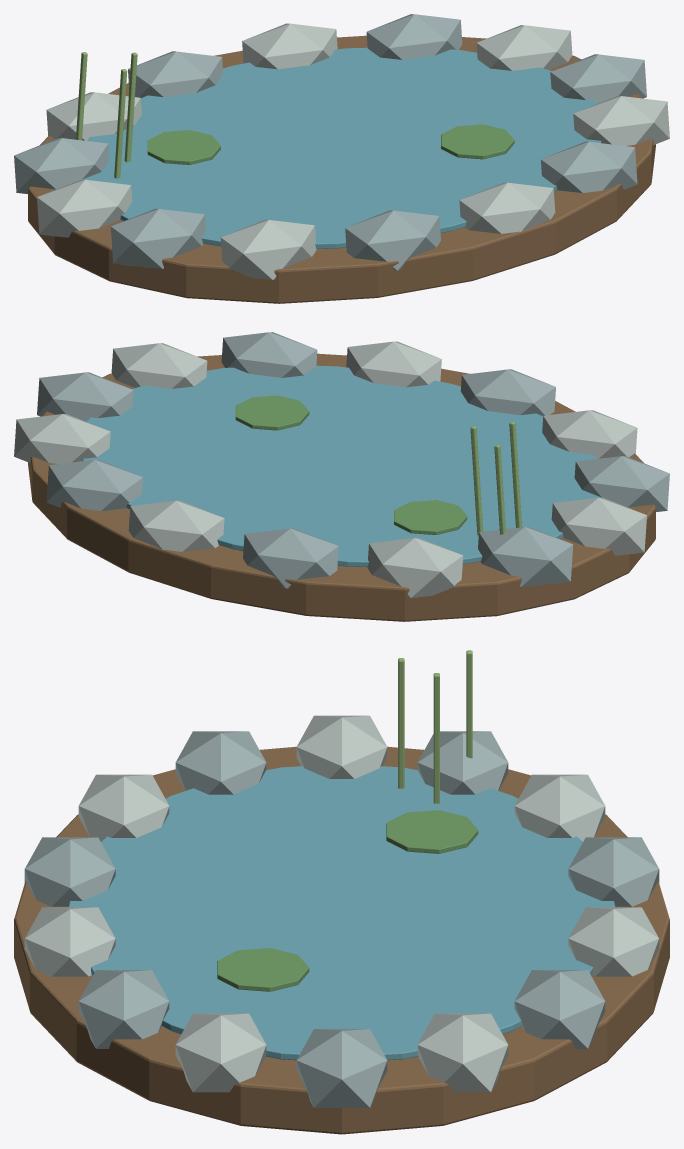
Rendered from S071_scenic_pond.glb.
The picture shows the model from 3 angles, top to bottom: view 1: azimuth 30°, elevation 25°; view 2: azimuth 150°, elevation 25°; view 3: azimuth 270°, elevation 25°; orthographic projection. The views are drawn at different scales.
Visible parts, largest first — view 1: painted_pond_water, pond_scenic_base, foam_pond_rim.008, foam_pond_rim.009, foam_pond_rim.007, foam_pond_rim.010, foam_pond_rim.012, foam_pond_rim.011, foam_pond_rim.013, foam_pond_rim.006, foam_pond_rim, foam_pond_rim.001 (+9 smaller); view 2: painted_pond_water, pond_scenic_base, foam_pond_rim.006, foam_pond_rim.005, foam_pond_rim.007, foam_pond_rim.004, foam_pond_rim.002, foam_pond_rim.003, foam_pond_rim.001, foam_pond_rim.008, foam_pond_rim, foam_pond_rim.013 (+9 smaller); view 3: painted_pond_water, pond_scenic_base, foam_pond_rim, foam_pond_rim.001, foam_pond_rim.013, foam_pond_rim.002, foam_pond_rim.012, foam_pond_rim.003, foam_pond_rim.011, foam_pond_rim.004, foam_pond_rim.010, foam_pond_rim.005 (+9 smaller).
Boxes of the visible parts, bbox=[...] form: painted_pond_water: bbox=[83, 47, 601, 248]; pond_scenic_base: bbox=[28, 35, 655, 303]; foam_pond_rim.008: bbox=[110, 208, 205, 268]; foam_pond_rim.009: bbox=[220, 219, 316, 279]; foam_pond_rim.007: bbox=[37, 179, 132, 237]; foam_pond_rim.010: bbox=[345, 210, 440, 270]; foam_pond_rim.012: bbox=[541, 141, 637, 192]; foam_pond_rim.011: bbox=[459, 182, 555, 233]; foam_pond_rim.013: bbox=[573, 96, 669, 145]; foam_pond_rim.006: bbox=[14, 138, 109, 193]; foam_pond_rim: bbox=[550, 54, 646, 103]; foam_pond_rim.001: bbox=[476, 25, 572, 70]; painted_pond_water: bbox=[82, 365, 600, 566]; pond_scenic_base: bbox=[28, 353, 655, 621]; foam_pond_rim.006: bbox=[478, 526, 573, 586]; foam_pond_rim.005: bbox=[367, 537, 463, 597]; foam_pond_rim.007: bbox=[551, 497, 646, 555]; foam_pond_rim.004: bbox=[243, 528, 338, 588]; foam_pond_rim.002: bbox=[46, 459, 142, 510]; foam_pond_rim.003: bbox=[128, 500, 224, 551]; foam_pond_rim.001: bbox=[14, 414, 110, 463]; foam_pond_rim.008: bbox=[574, 456, 669, 511]; foam_pond_rim: bbox=[37, 372, 133, 421]; foam_pond_rim.013: bbox=[111, 343, 207, 388]; painted_pond_water: bbox=[68, 766, 615, 1060]; pond_scenic_base: bbox=[14, 746, 669, 1134]; foam_pond_rim: bbox=[296, 1029, 387, 1107]; foam_pond_rim.001: bbox=[417, 1013, 508, 1092]; foam_pond_rim.013: bbox=[175, 1013, 266, 1092]; foam_pond_rim.002: bbox=[514, 970, 605, 1048]; foam_pond_rim.012: bbox=[78, 970, 169, 1048]; foam_pond_rim.003: bbox=[568, 907, 659, 976]; foam_pond_rim.011: bbox=[24, 907, 115, 976]; foam_pond_rim.004: bbox=[568, 837, 659, 906]; foam_pond_rim.010: bbox=[24, 837, 115, 906]; foam_pond_rim.005: bbox=[514, 774, 605, 841].
Size of the model in its own units: 2.95 by 0.6804 by 2.21.
